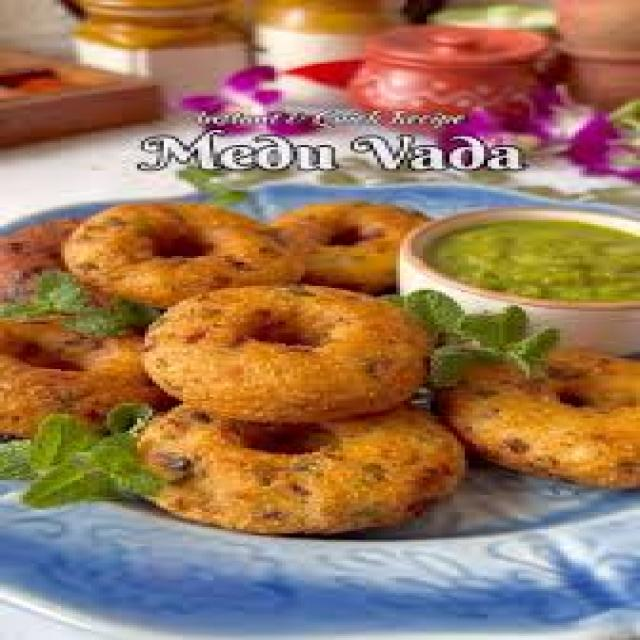MEDU VADA: (141, 405, 461, 529), (145, 286, 427, 422), (438, 348, 636, 486), (61, 205, 301, 305), (270, 201, 423, 290)
